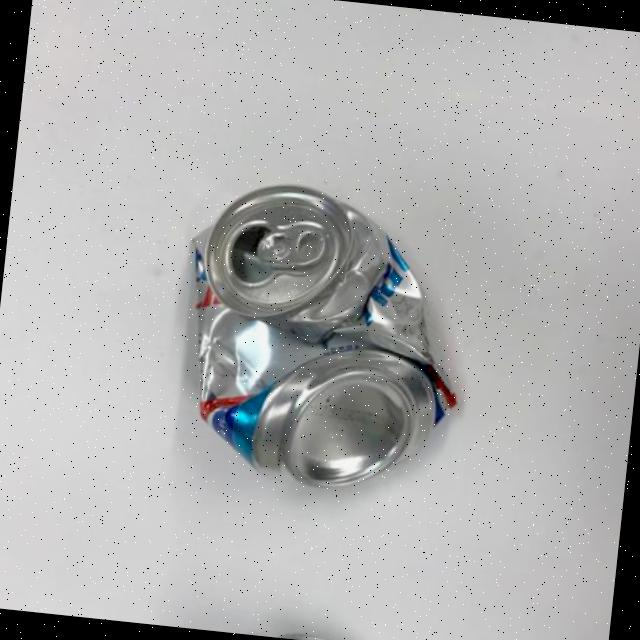Metal: (152, 170, 498, 529), (138, 589, 454, 640)
